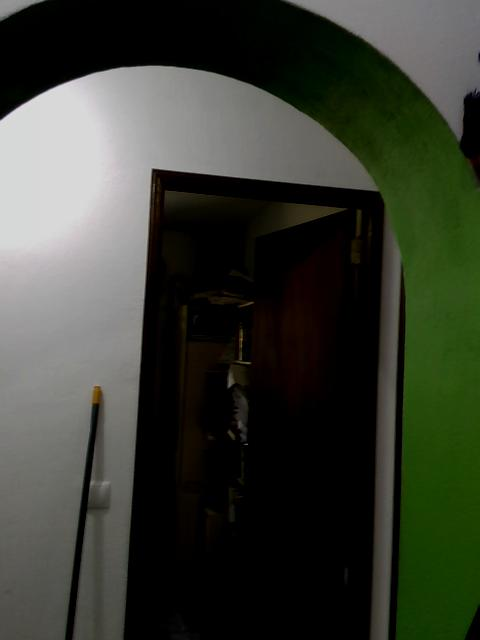open_door: (122, 166, 385, 638)
